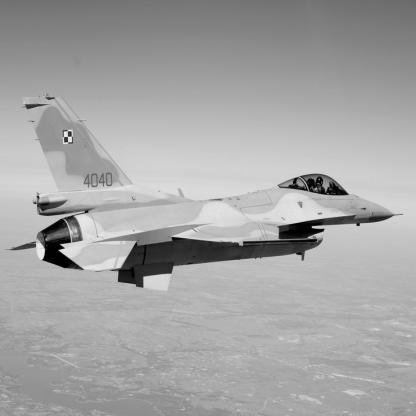F16: (6, 94, 405, 293)
